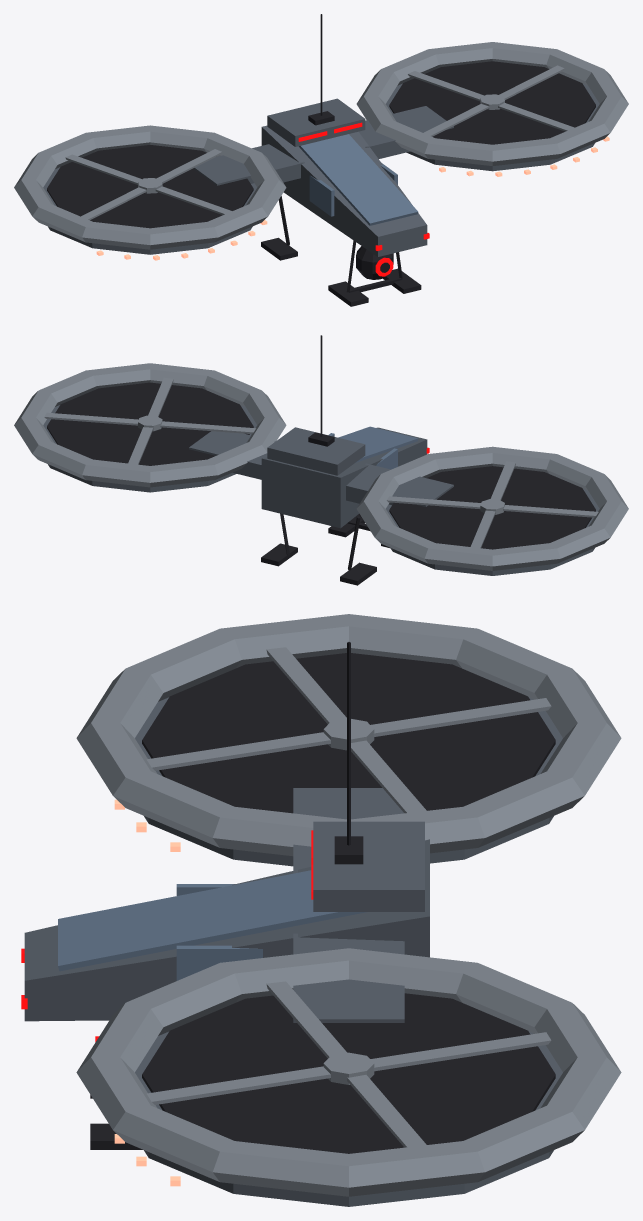
The model's file is drone by sebita.fbx.
The picture shows the model from 3 angles, top to bottom: view 1: azimuth 30°, elevation 25°; view 2: azimuth 150°, elevation 25°; view 3: azimuth 270°, elevation 25°; orthographic projection. The views are drawn at different scales.
Visible parts, largest first — view 1: Ring_L, Ring_R, Disc_R, Disc_L, Fuselage, TopPanel, Dorsal, Arm_L, Arm_R, Skirt_L, Skirt_R, BladeB_R (+8 smaller); view 2: Ring_L, Ring_R, Disc_L, Disc_R, Fuselage, Dorsal, Arm_L, Arm_R, BladeA_L, BladeA_R, TopPanel, Skirt_L (+5 smaller); view 3: Ring_R, Ring_L, Disc_R, Disc_L, Fuselage, TopPanel, Dorsal, Arm_R, BladeB_L, BladeB_R, Skirt_R, BladeA_R (+9 smaller).
Part boxes in pixels (<box>): Ring_L: <box>14,125,286,249</box>; Ring_R: <box>356,42,628,166</box>; Disc_R: <box>389,61,595,144</box>; Disc_L: <box>47,145,253,228</box>; Fuselage: <box>261,125,427,256</box>; TopPanel: <box>299,134,418,225</box>; Dorsal: <box>267,98,365,146</box>; Arm_L: <box>193,144,304,185</box>; Arm_R: <box>359,106,453,158</box>; Skirt_L: <box>43,167,257,254</box>; Skirt_R: <box>386,83,599,171</box>; BladeB_R: <box>408,71,574,131</box>; Ring_L: <box>356,446,628,570</box>; Ring_R: <box>14,363,286,487</box>; Disc_L: <box>389,466,595,549</box>; Disc_R: <box>47,382,253,465</box>; Fuselage: <box>261,427,427,528</box>; Dorsal: <box>267,427,365,475</box>; Arm_L: <box>346,463,453,506</box>; Arm_R: <box>189,431,275,479</box>; BladeA_L: <box>386,496,598,517</box>; BladeA_R: <box>44,412,255,433</box>; TopPanel: <box>338,426,418,462</box>; Skirt_L: <box>386,488,599,575</box>; Ring_R: <box>76,948,621,1196</box>; Ring_L: <box>76,614,621,856</box>; Disc_R: <box>142,993,555,1153</box>; Disc_L: <box>142,653,555,813</box>; Fuselage: <box>24,839,429,1021</box>; TopPanel: <box>58,870,366,971</box>; Dorsal: <box>313,821,424,911</box>; Arm_R: <box>293,933,404,1022</box>; BladeB_L: <box>146,698,551,770</box>; BladeB_R: <box>147,1032,551,1104</box>; Skirt_R: <box>135,1031,562,1206</box>; BladeA_R: <box>266,981,426,1147</box>.
Size of the model in its own units: 6.59 by 2.58 by 2.96.
